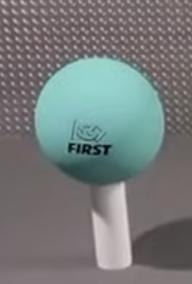algae: (34, 58, 165, 184)
coral: (90, 180, 133, 271)
